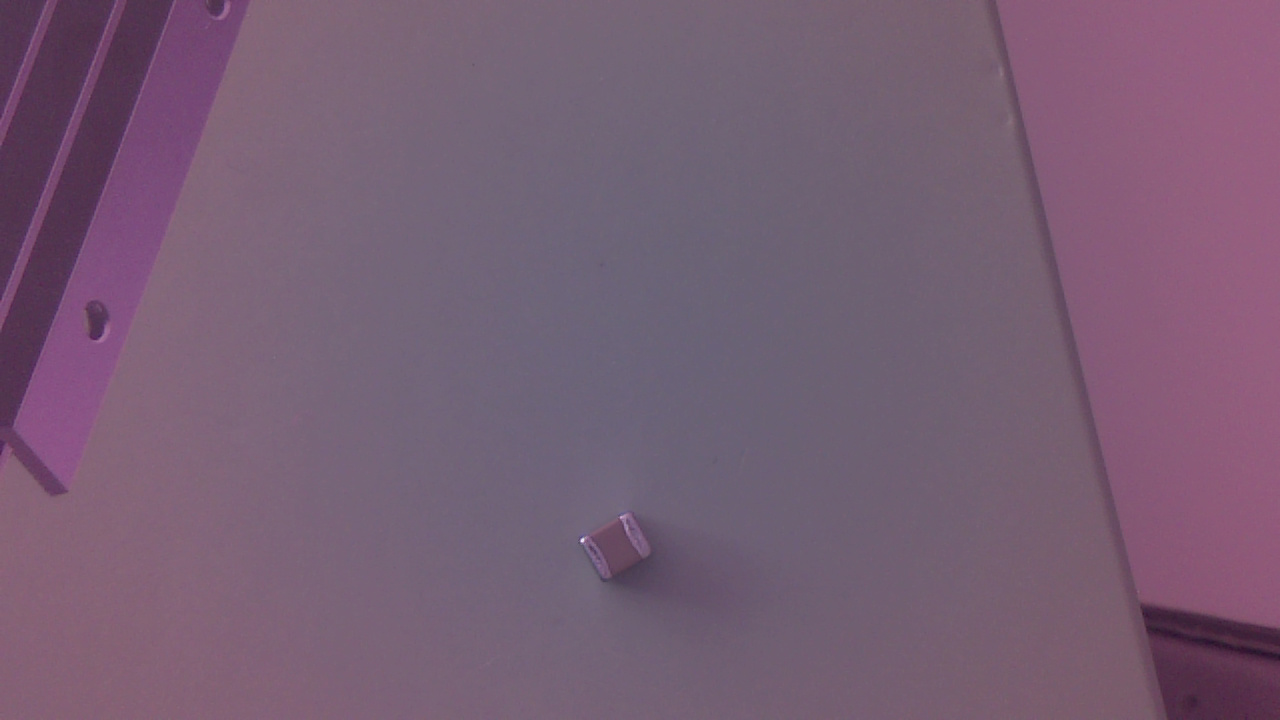Condensator: (580, 512, 667, 593)
